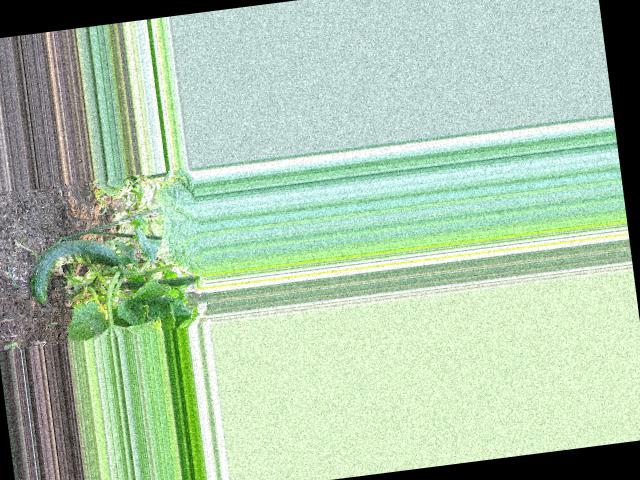cucumber: (25, 234, 125, 304)
